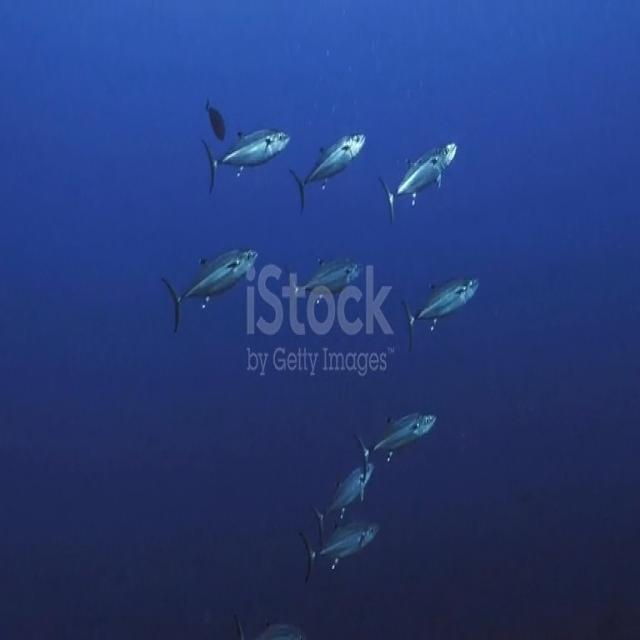fish: (164, 239, 258, 336), (295, 111, 370, 216), (376, 137, 459, 227), (198, 115, 290, 192), (400, 268, 482, 350), (352, 406, 436, 477), (309, 454, 375, 538), (284, 248, 364, 309), (301, 522, 380, 575), (206, 89, 232, 141)
